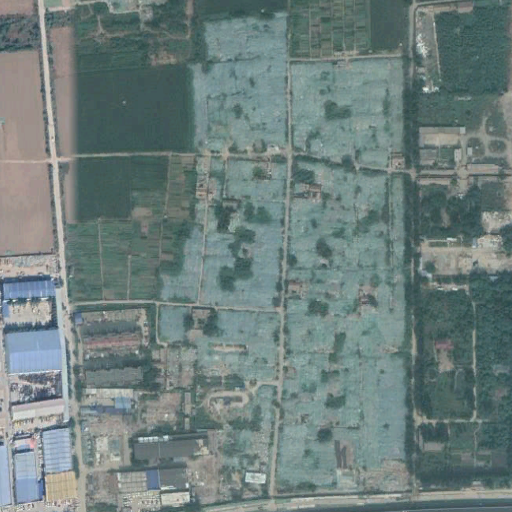cw: (144, 10, 410, 498)
